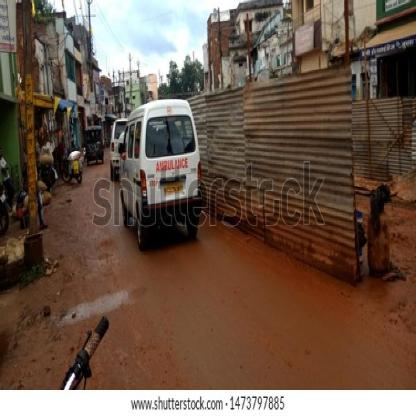priority: (121, 97, 202, 251)
